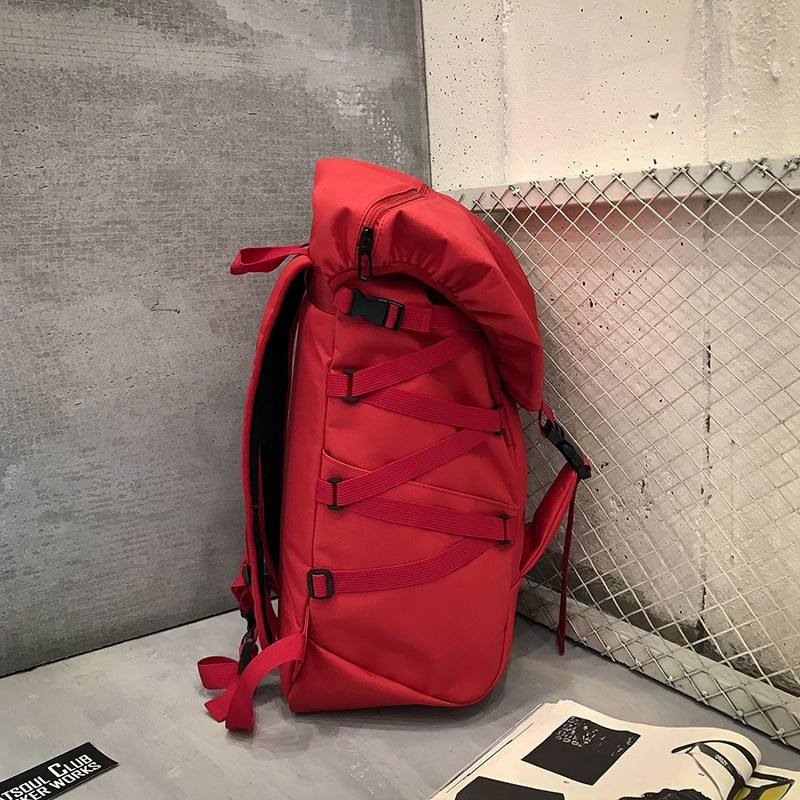Men's Backpacks: (191, 155, 596, 743)
